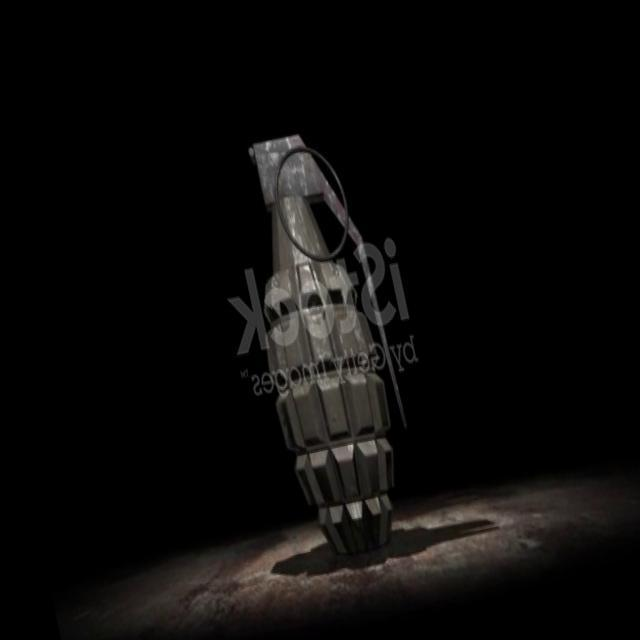grenade: (214, 102, 436, 573)
